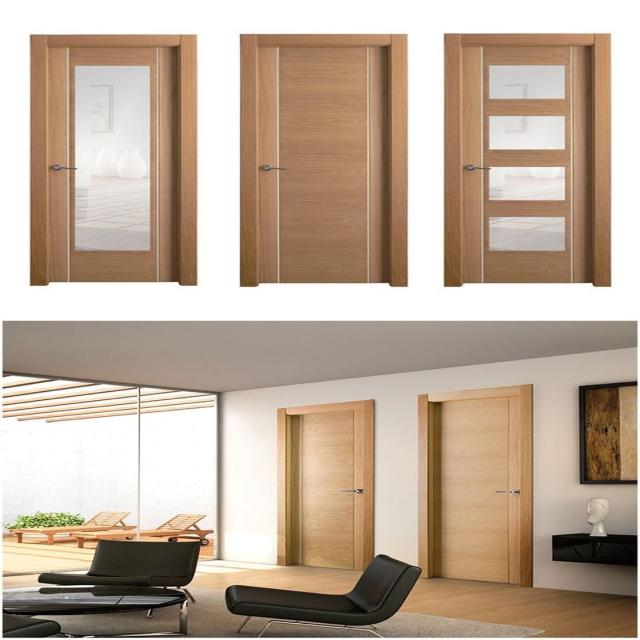door: (438, 33, 612, 288), (33, 36, 192, 291), (240, 33, 397, 285), (418, 384, 533, 586), (277, 398, 374, 571)
obstacle: (224, 553, 423, 637), (36, 538, 201, 617), (2, 585, 188, 637)
